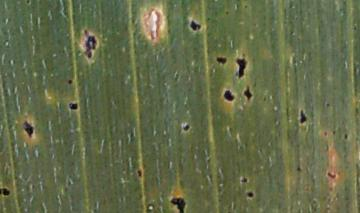tarspot: (82, 28, 97, 59), (170, 196, 186, 213), (236, 58, 247, 79), (22, 122, 34, 138), (222, 89, 235, 103), (188, 19, 201, 31), (243, 86, 252, 100), (68, 102, 80, 111), (325, 170, 337, 179), (299, 109, 306, 124), (1, 187, 11, 197), (180, 123, 191, 131), (216, 58, 228, 65), (246, 190, 254, 199), (241, 177, 248, 186), (321, 129, 328, 138), (136, 169, 142, 178), (325, 100, 331, 109), (242, 3, 249, 10), (296, 165, 302, 172), (331, 129, 337, 136), (225, 9, 230, 17), (68, 78, 73, 85), (25, 1, 32, 6), (344, 132, 348, 140)
